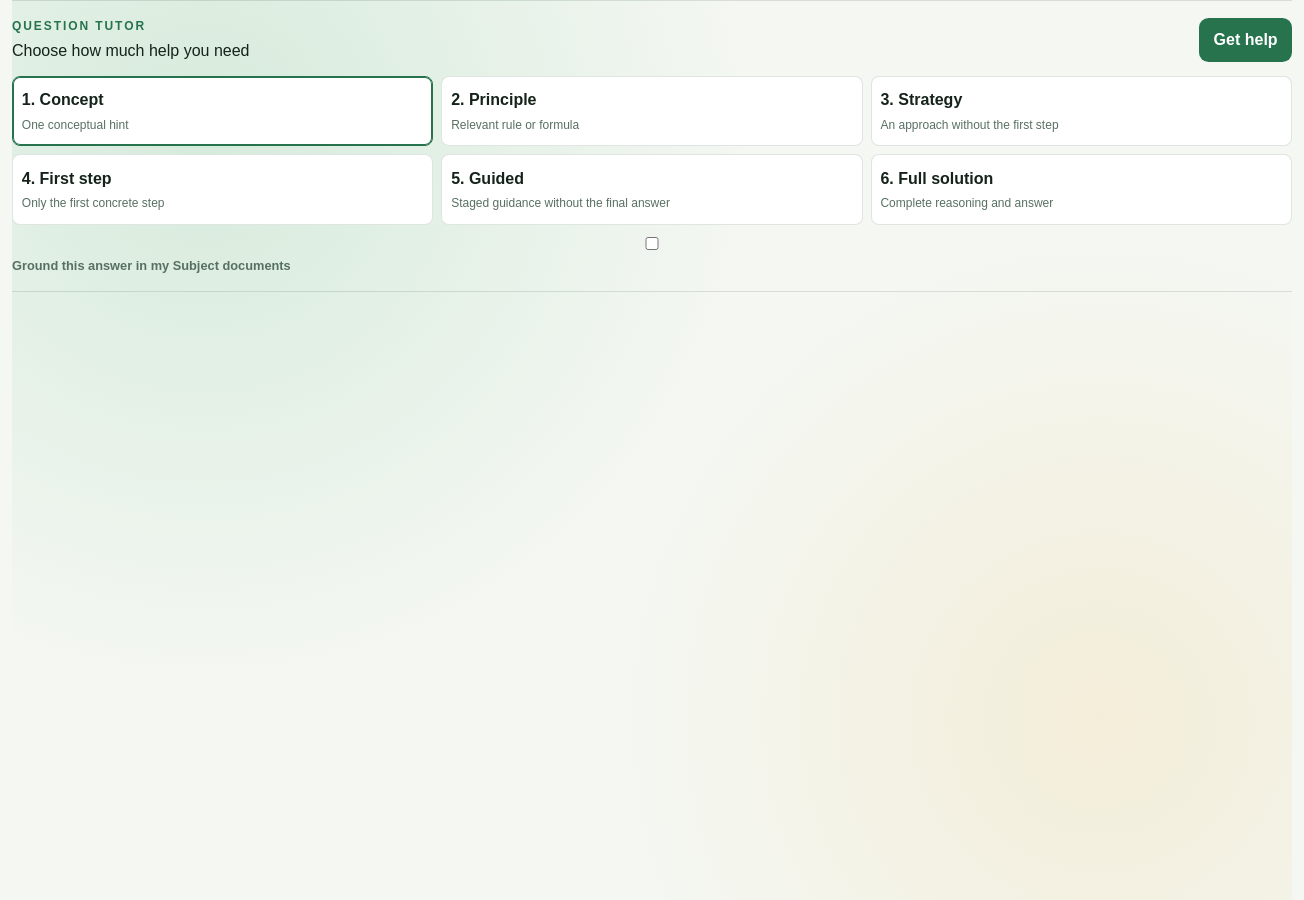
Test: TutorPanel › requests grounded help and renders single and multi-page sources
Click the checkbox labelled "Ground this answer in my Subject documents".
click(652, 244)  # box [12, 237, 1292, 250]
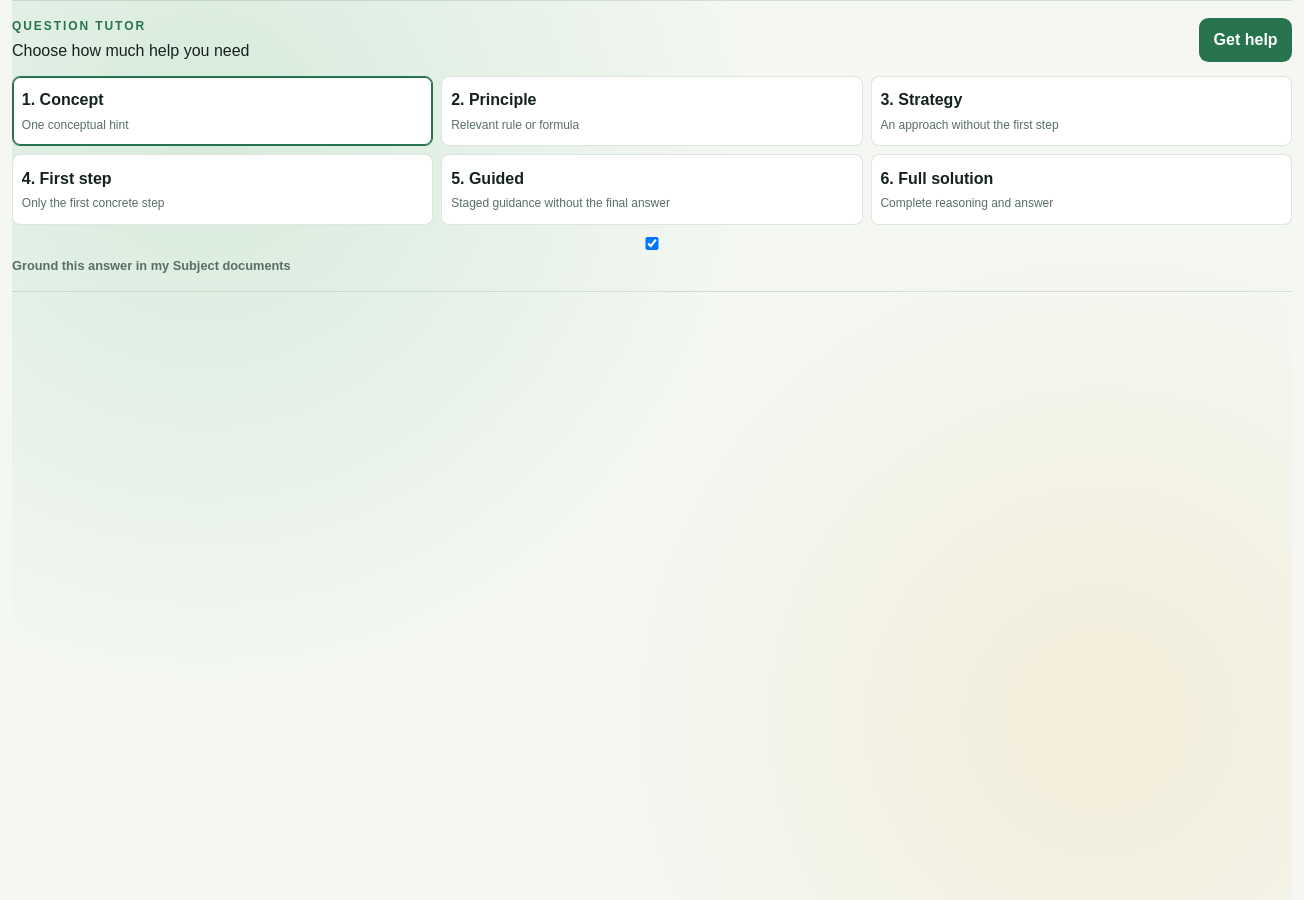
Click the button "Get help".
click(1246, 40)  # box [1199, 18, 1292, 62]
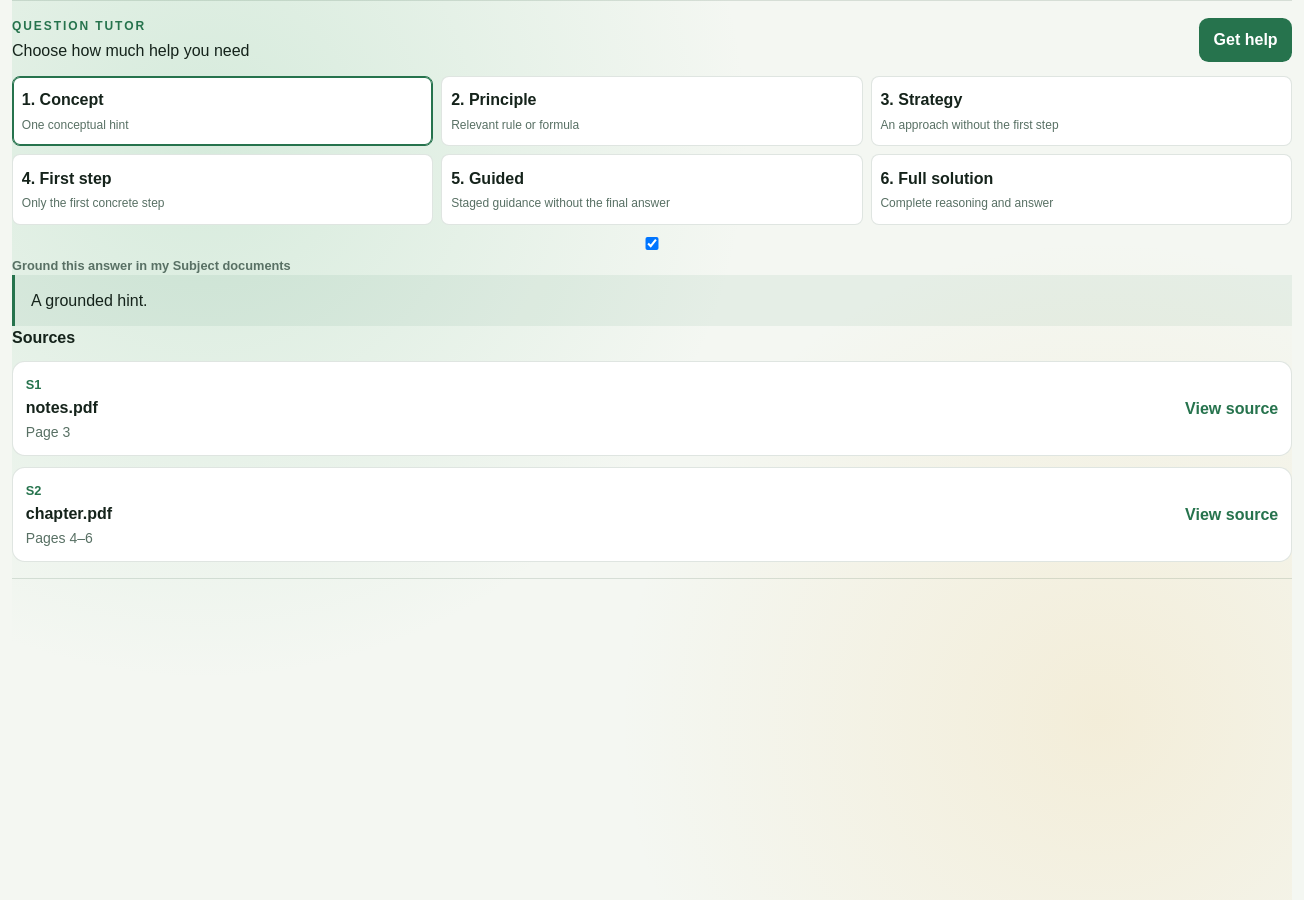
Now the text named "Tutor response" reads "A grounded hint.", box [31, 292, 148, 309]
Now the link with aria-label "View source S2: chapter.pdf, Pages 4–6" is shown, box [1185, 502, 1278, 526]
